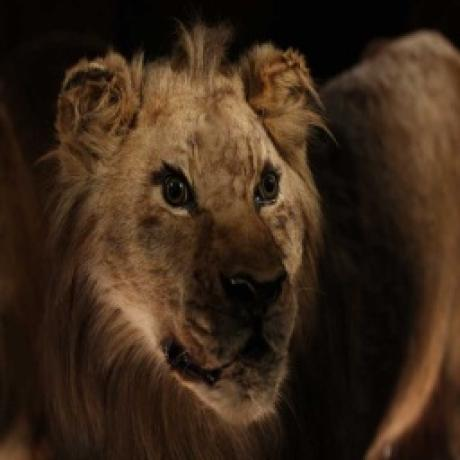Lion: (34, 18, 460, 460)
